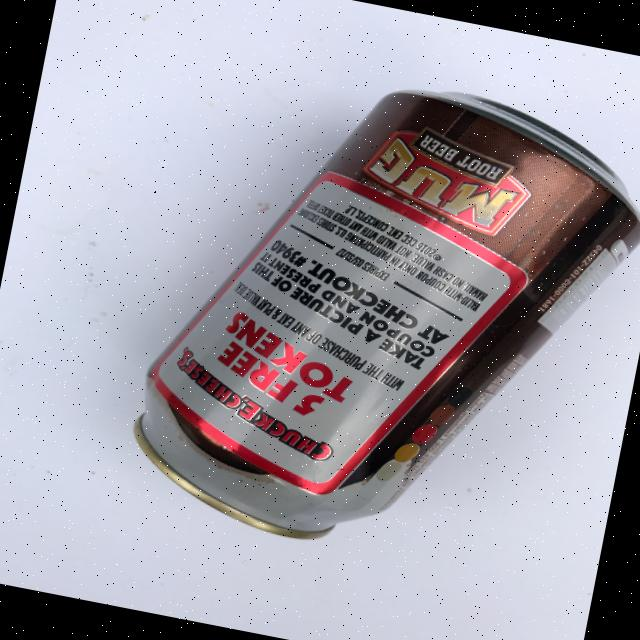metal: (117, 41, 640, 592)
